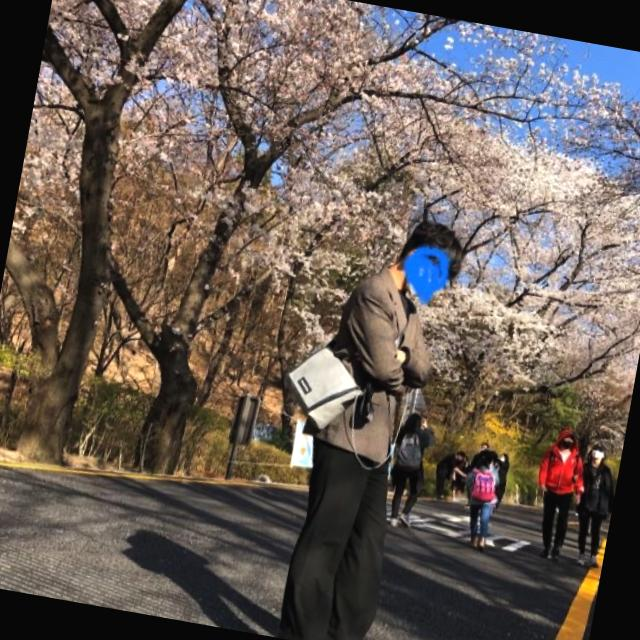blazer: (310, 248, 446, 471)
slacks: (273, 407, 409, 640)
